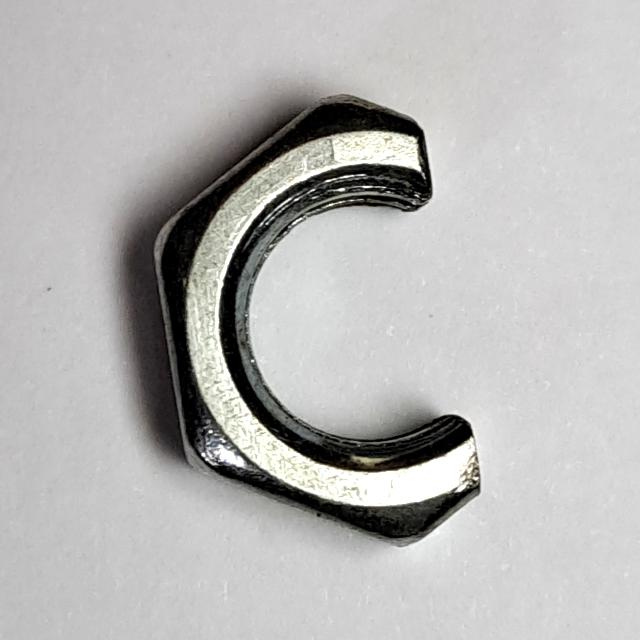Fracture: (145, 77, 509, 569)
